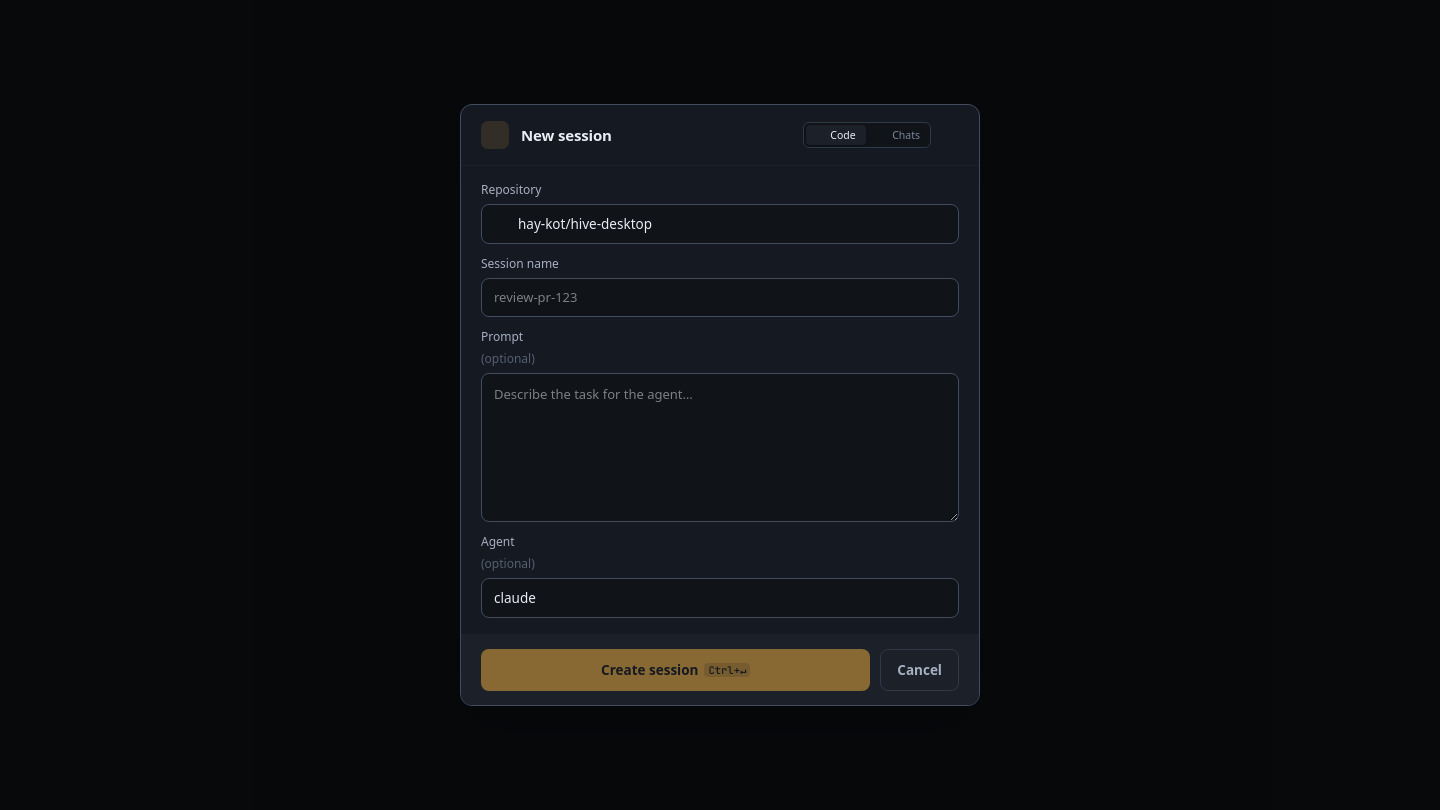
Test case: NewSessionDialog › disables workspace submission when no workspaces exist
What coordinates should you click on to do the following:
click the button with test id "new-session-target-workspace"
I would click on:
 (898, 135)
Its box is x1=868 y1=125 x2=928 y2=145.
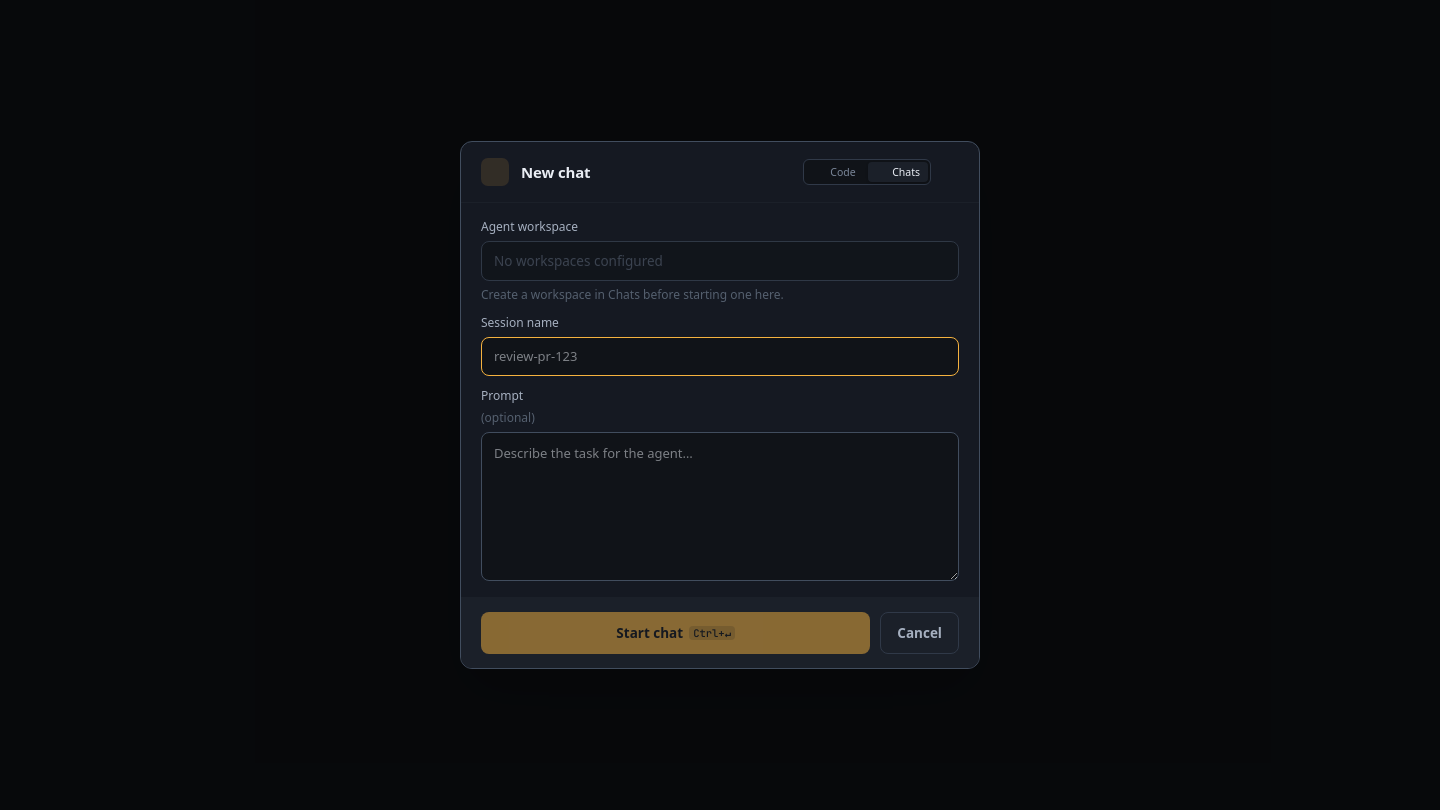
Check: the button with test id "new-session-submit" is disabled, box x1=481 y1=612 x2=870 y2=654
Check: the text "Create a workspace in Chats" is shown, box x1=481 y1=286 x2=784 y2=303
